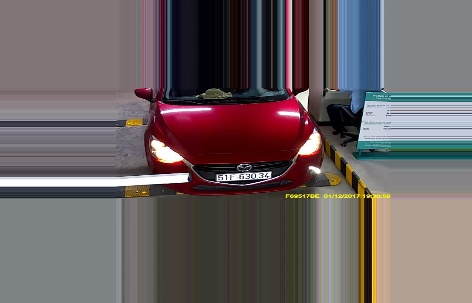plate: (213, 170, 273, 186)
